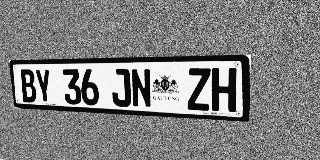3: (62, 69, 82, 105)
6: (79, 69, 100, 106)
B: (19, 69, 37, 103)
H: (211, 68, 237, 112)
J: (110, 69, 131, 107)
N: (130, 69, 152, 108)
Y: (34, 69, 53, 103)
Z: (187, 68, 211, 111)
